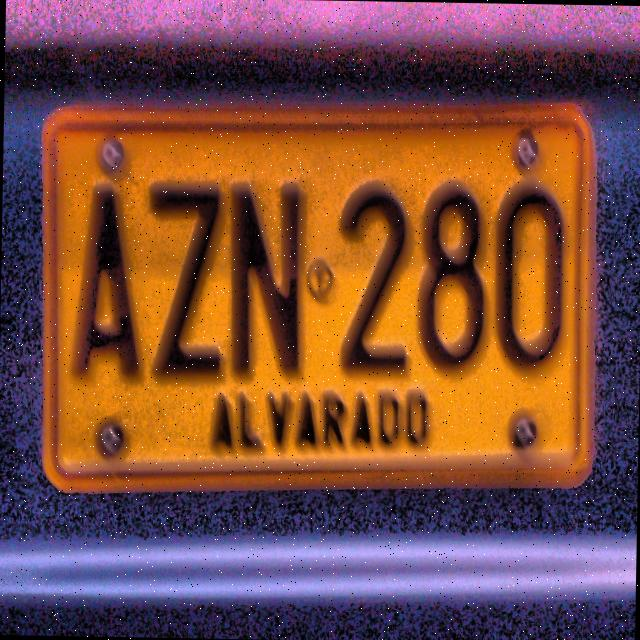0: (493, 182, 570, 378)
2: (336, 176, 414, 378)
8: (415, 171, 488, 378)
A: (67, 184, 145, 389)
N: (226, 174, 309, 380)
Z: (146, 180, 226, 381)
